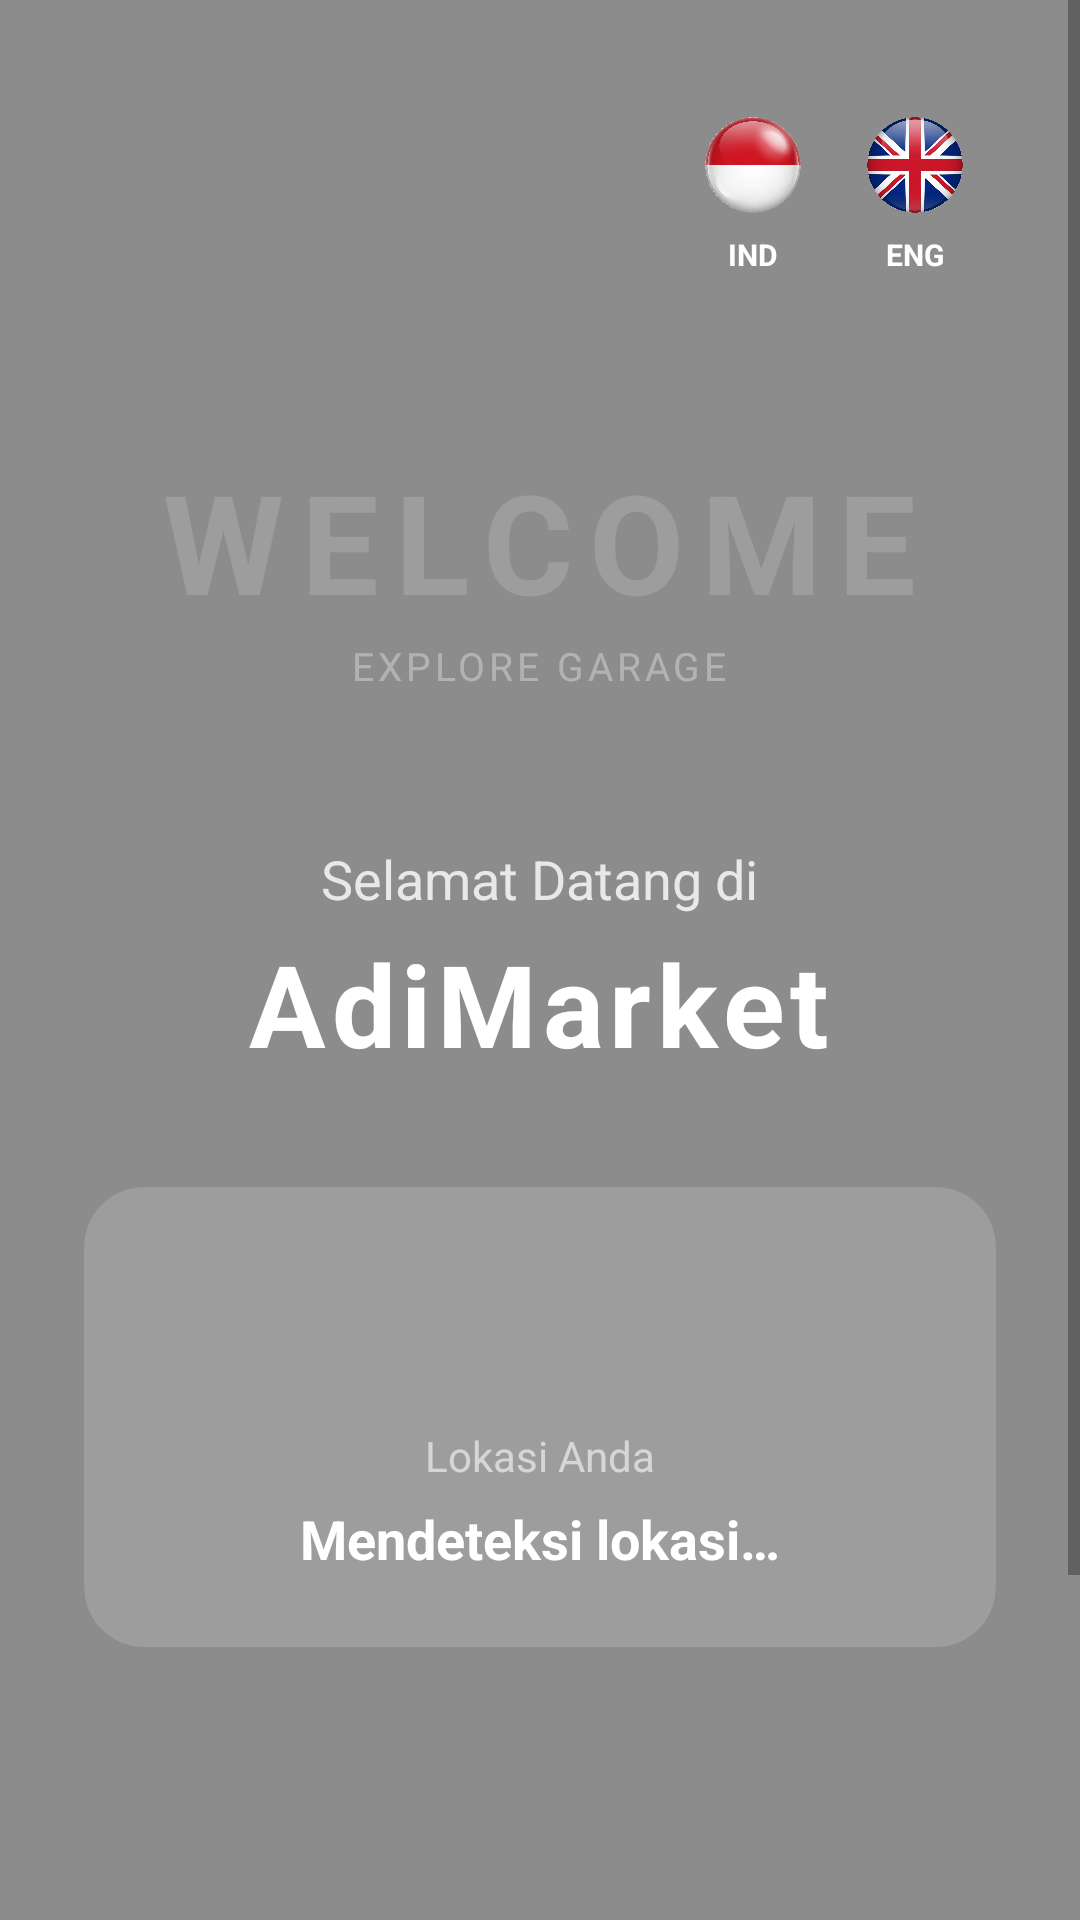

Icon bounding boxes for this 1080w x 1920h phone screenshot, format (x1, y1, x2, y2):
flag en custom: (867, 117, 963, 213)
flag id custom: (705, 117, 801, 212)
